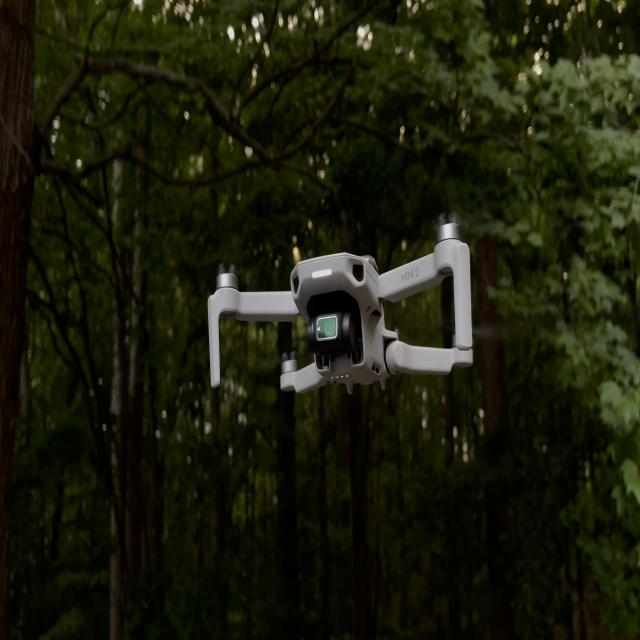Drone: (209, 241, 476, 394)
